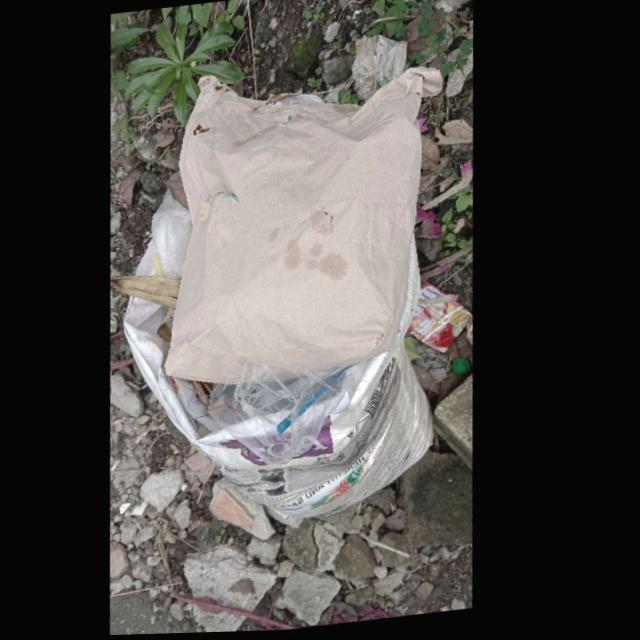paper: (172, 70, 445, 388)
plastic_bag: (216, 369, 357, 465)
